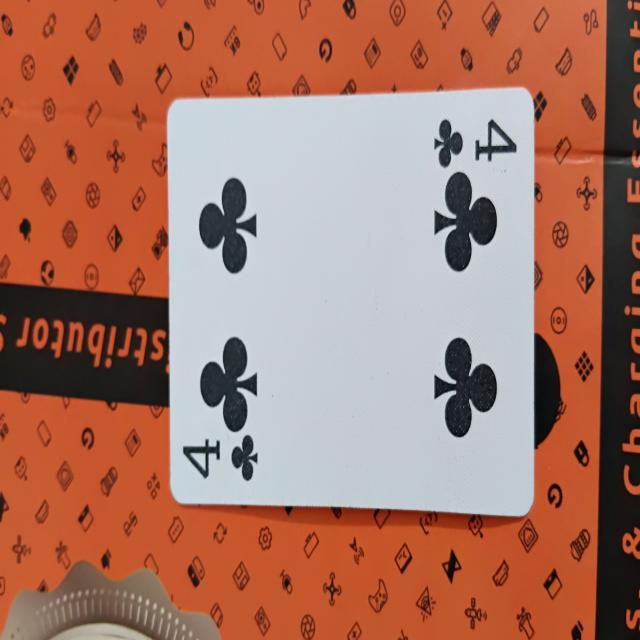4C: (169, 86, 533, 516)
